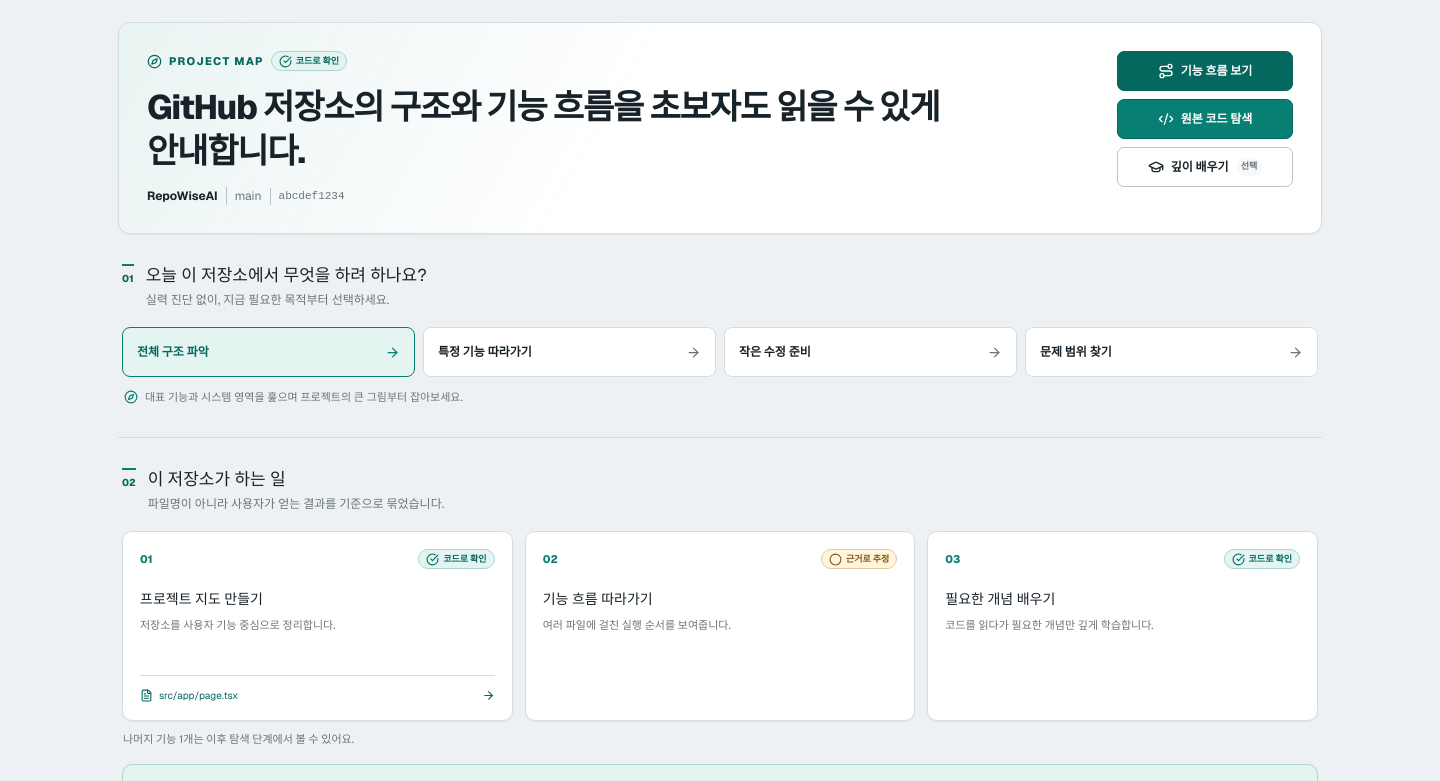
ProjectMapPanel › lets the user choose an intent without a skill assessment
The width and height of the screenshot is (1440, 781).
Click the button "작은 수정 준비" at (775,352), box [724,327,1017,377]
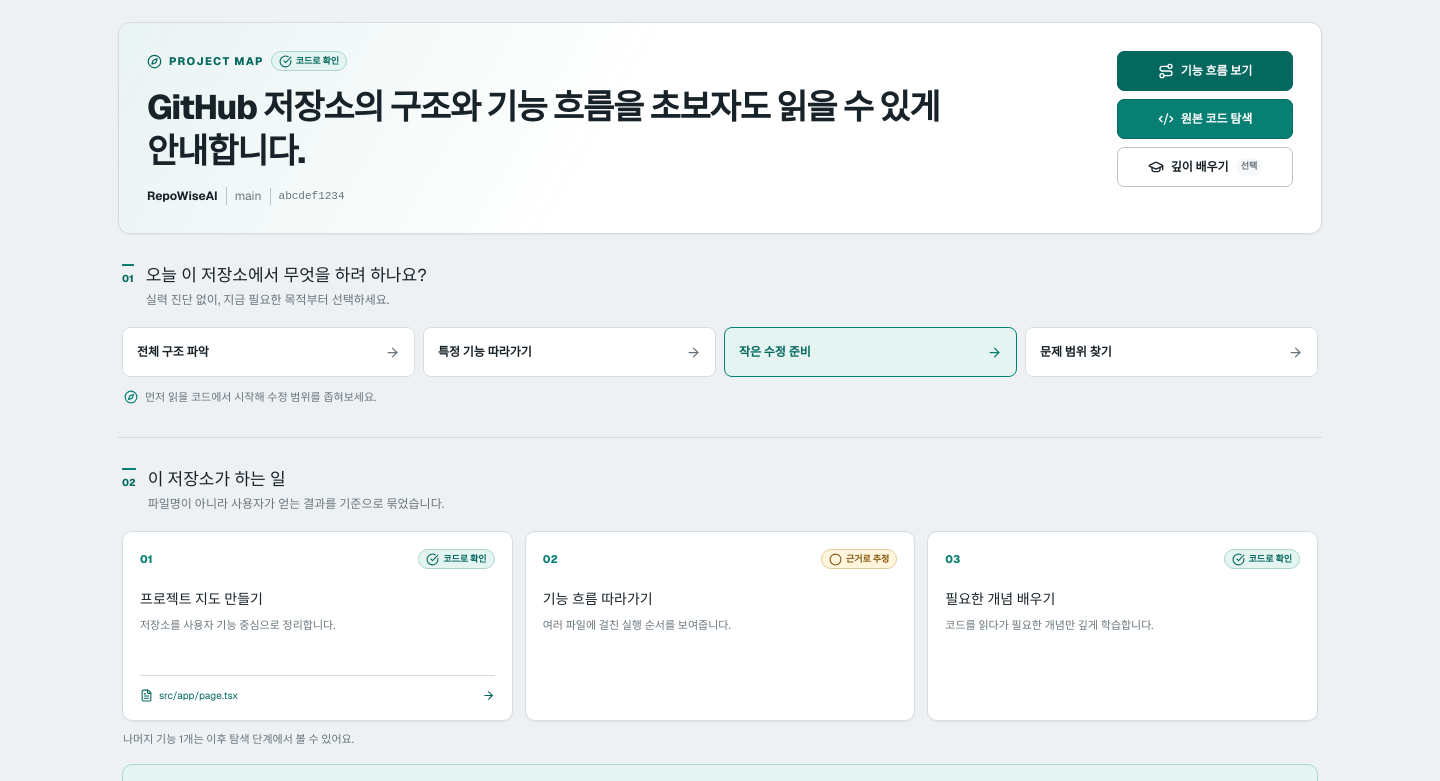
Expected: the message shows "먼저 읽을 코드", [145,390,376,404]
